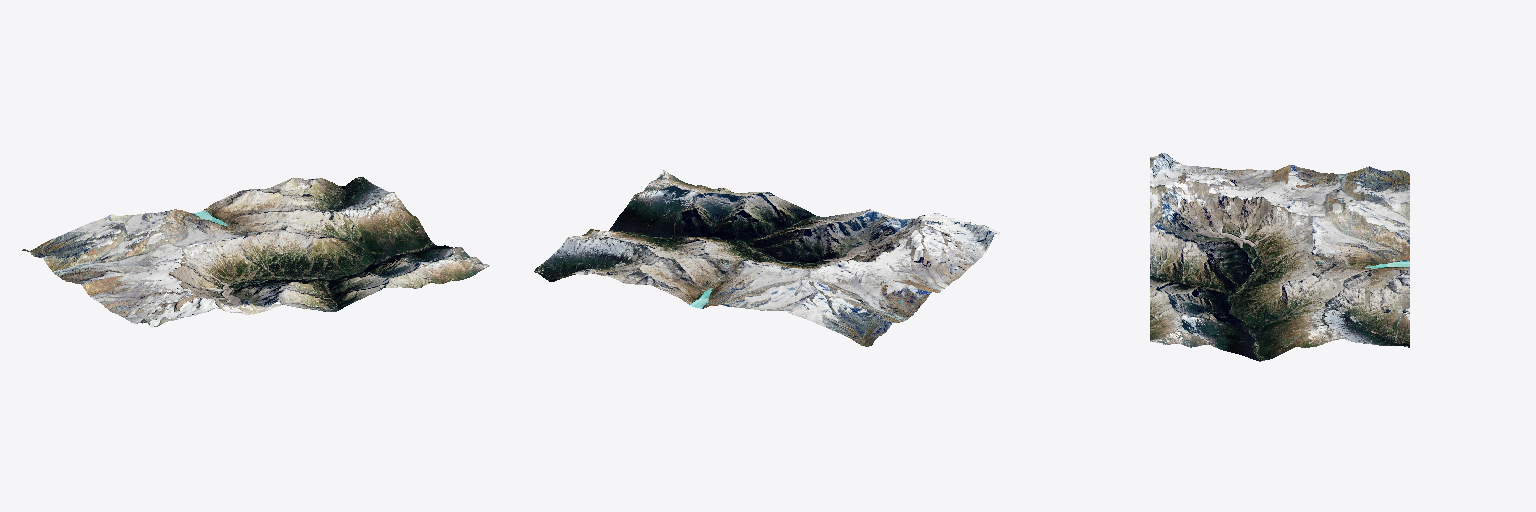
3 views of the same model, side by side, from view 1: azimuth 30°, elevation 25°; view 2: azimuth 150°, elevation 25°; view 3: azimuth 270°, elevation 25° (orthographic).
Visible parts, largest first — view 1: EXPORT_GOOGLE_SAT_WM.031; view 2: EXPORT_GOOGLE_SAT_WM.031; view 3: EXPORT_GOOGLE_SAT_WM.031.
Boxes of the visible parts, <box> form: EXPORT_GOOGLE_SAT_WM.031: <box>22,177,489,328</box>; EXPORT_GOOGLE_SAT_WM.031: <box>534,170,1001,346</box>; EXPORT_GOOGLE_SAT_WM.031: <box>1150,153,1409,361</box>.
Bounding box in the file's own units: 36498 × 4759 × 24332.
1 materials, 1 textured.